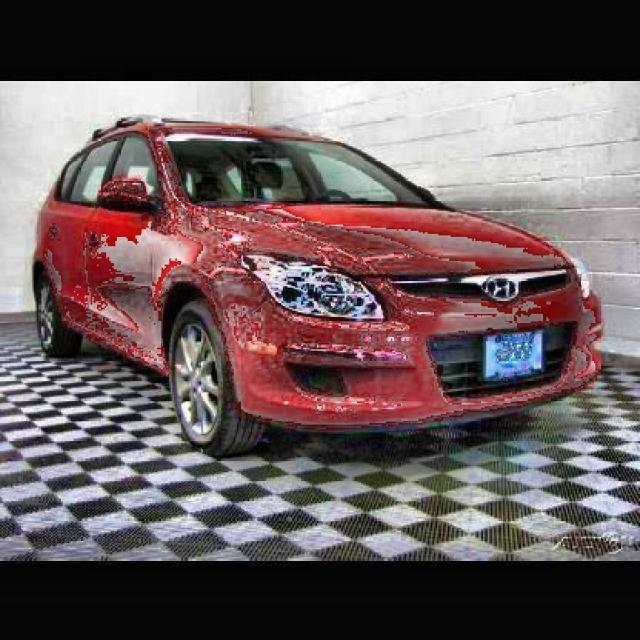maroon: (37, 119, 640, 446)
